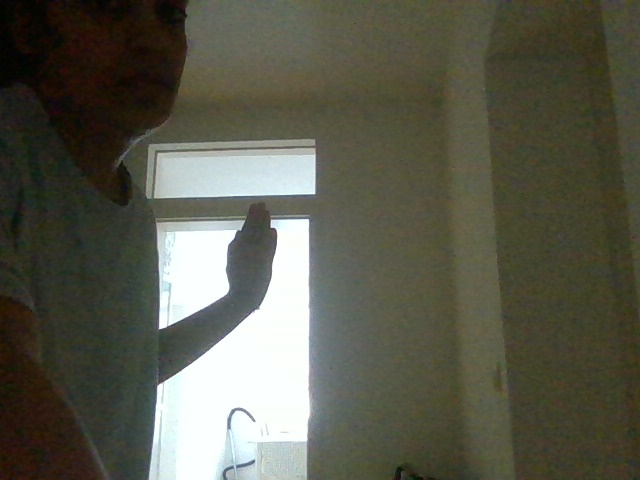open_hand: (209, 194, 299, 316)
